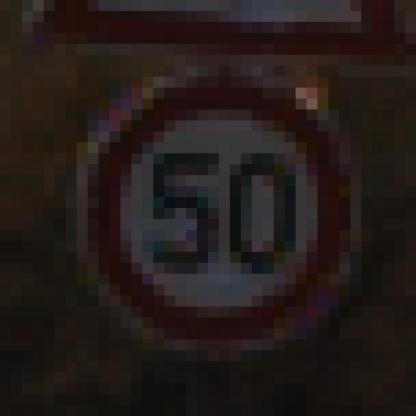Speed Limit -50-: (77, 56, 373, 361)
